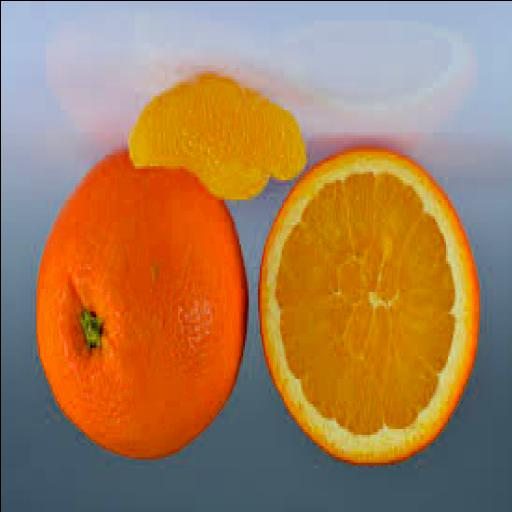orange: (260, 149, 479, 461), (37, 152, 246, 458), (130, 73, 306, 198)
